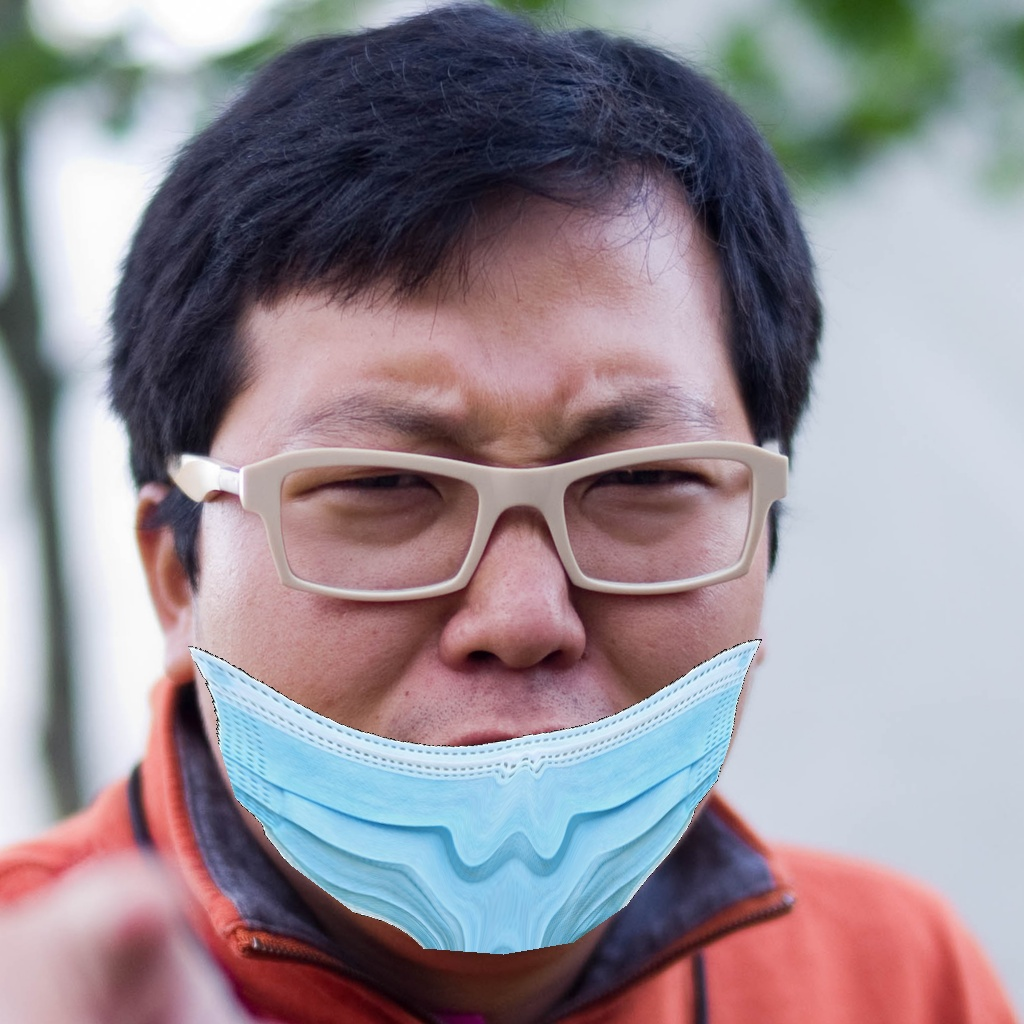mascarilla_mal_puesta: (112, 373, 799, 970)
